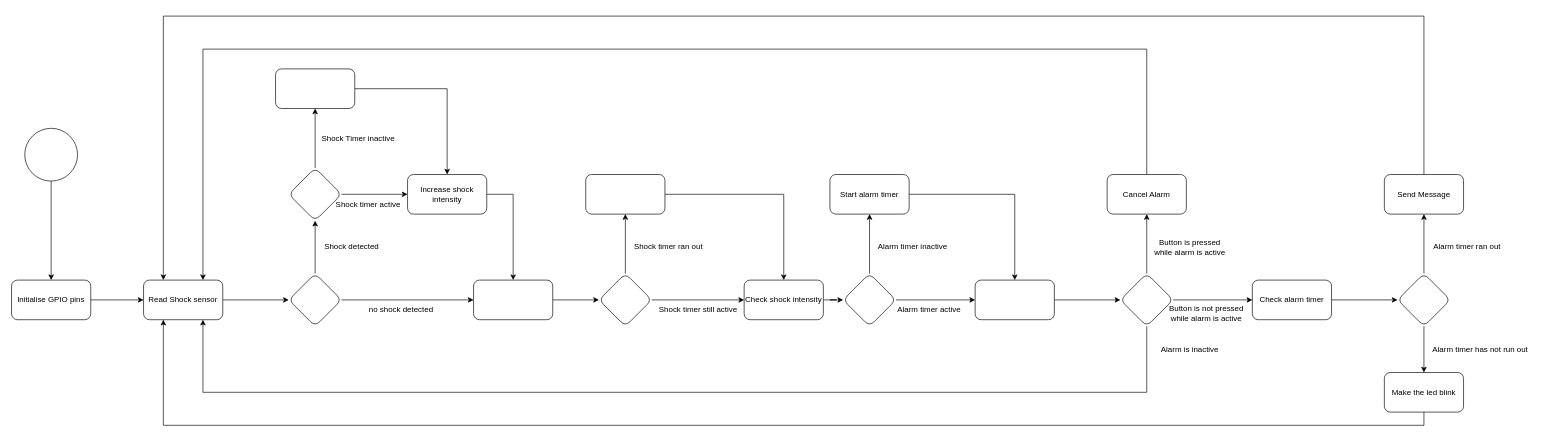
The diagram is 1548 pixels wide and 442 high, and some of its shapes have lost their labels. The centre of each missing label's shape, as x and y in pixels:
Check alarm status and button status: point (1014, 299)
Check shock timer: point (513, 299)
Reset shock timer and shock intensity: point (625, 194)
Start shock sensor reset timer: point (315, 88)
